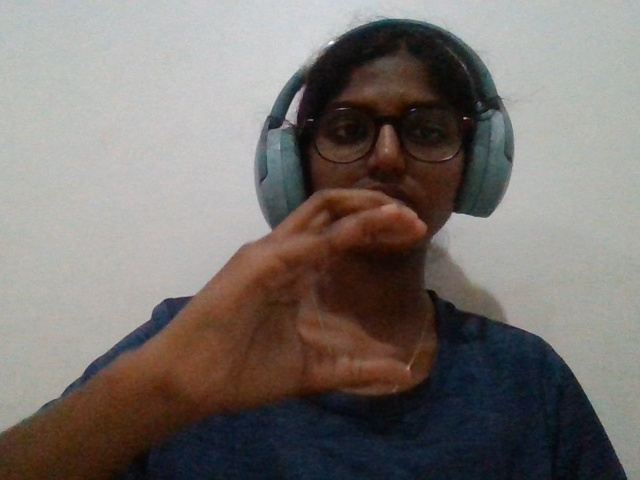C: (115, 169, 515, 451)
